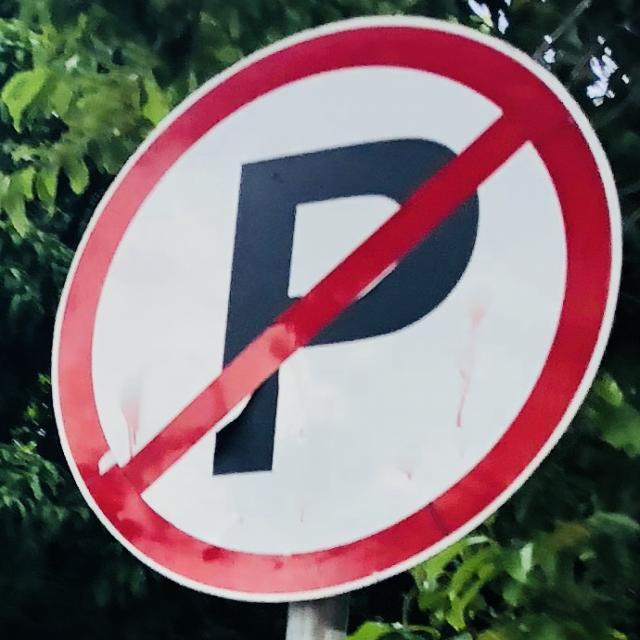no parking: (51, 30, 610, 594)
